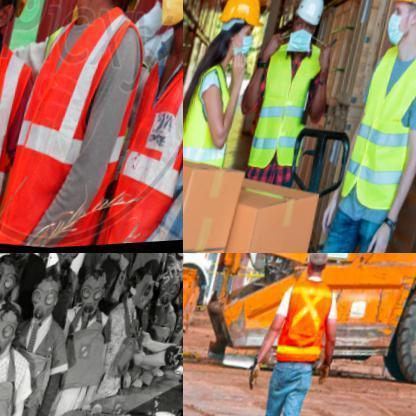vest: (0, 0, 155, 252), (112, 34, 182, 247), (342, 46, 415, 222), (252, 44, 332, 172), (0, 33, 38, 242), (183, 61, 250, 163), (280, 278, 343, 369)
